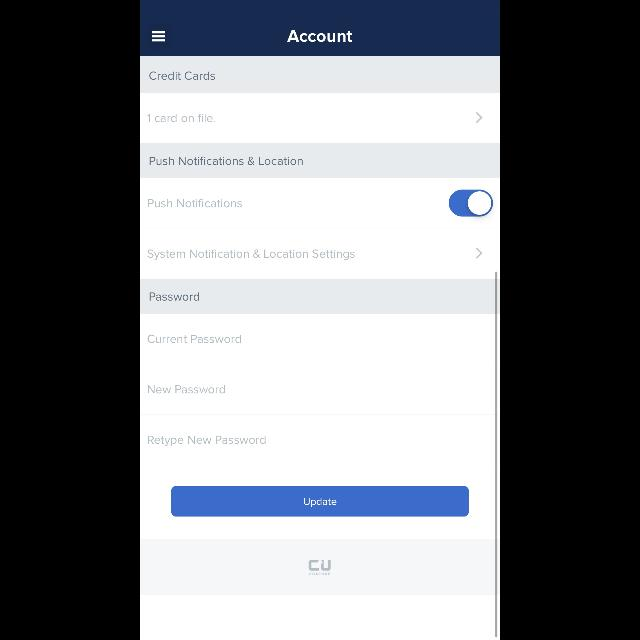icon: (152, 30, 166, 42), (476, 112, 482, 124), (476, 248, 482, 258)
image: (309, 560, 331, 576)
switch: (449, 190, 493, 217)
text: (148, 250, 354, 260), (150, 157, 302, 165), (148, 436, 266, 446), (146, 198, 242, 208), (288, 30, 352, 42), (148, 335, 242, 343), (148, 385, 226, 393), (148, 114, 216, 122), (149, 72, 215, 80), (150, 293, 200, 301)
textbutton: (172, 486, 468, 516)
